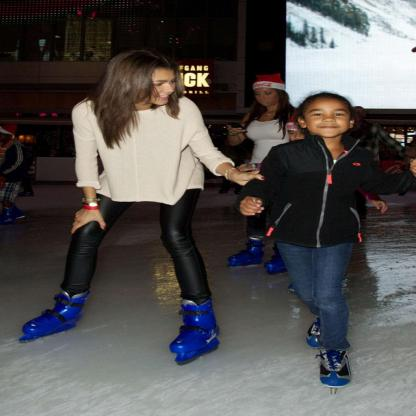face: (304, 100, 351, 139), (138, 68, 177, 107), (254, 87, 282, 108)
